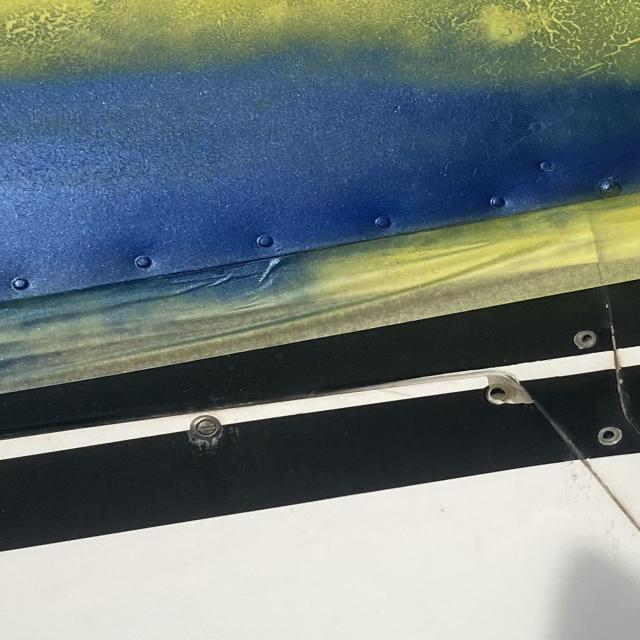Missing-head: (484, 378, 524, 406), (597, 426, 625, 449), (572, 330, 600, 351)
